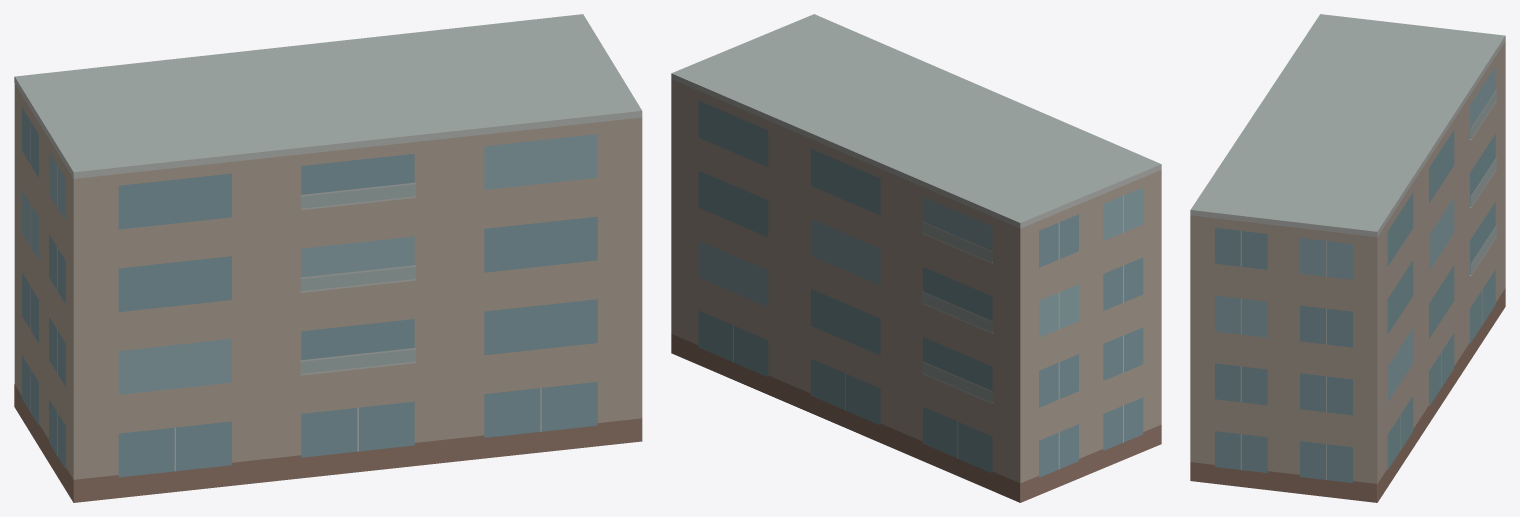
Rendered from survey-upis-32983959.glb.
The picture shows the model from 3 angles, left to right: view 1: azimuth 30°, elevation 25°; view 2: azimuth 150°, elevation 25°; view 3: azimuth 270°, elevation 25°; orthographic projection. The views are drawn at different scales.
Parts seen in each view (by area): view 1: survey-upis-32983959.tmp; view 2: survey-upis-32983959.tmp; view 3: survey-upis-32983959.tmp.
Part boxes in pixels (box(x1,y1,x2,y2)): survey-upis-32983959.tmp: box(14, 14, 642, 502); survey-upis-32983959.tmp: box(671, 14, 1161, 502); survey-upis-32983959.tmp: box(1190, 14, 1505, 502).
Size of the model in its own units: 21.04 by 12.2 by 12.86.
